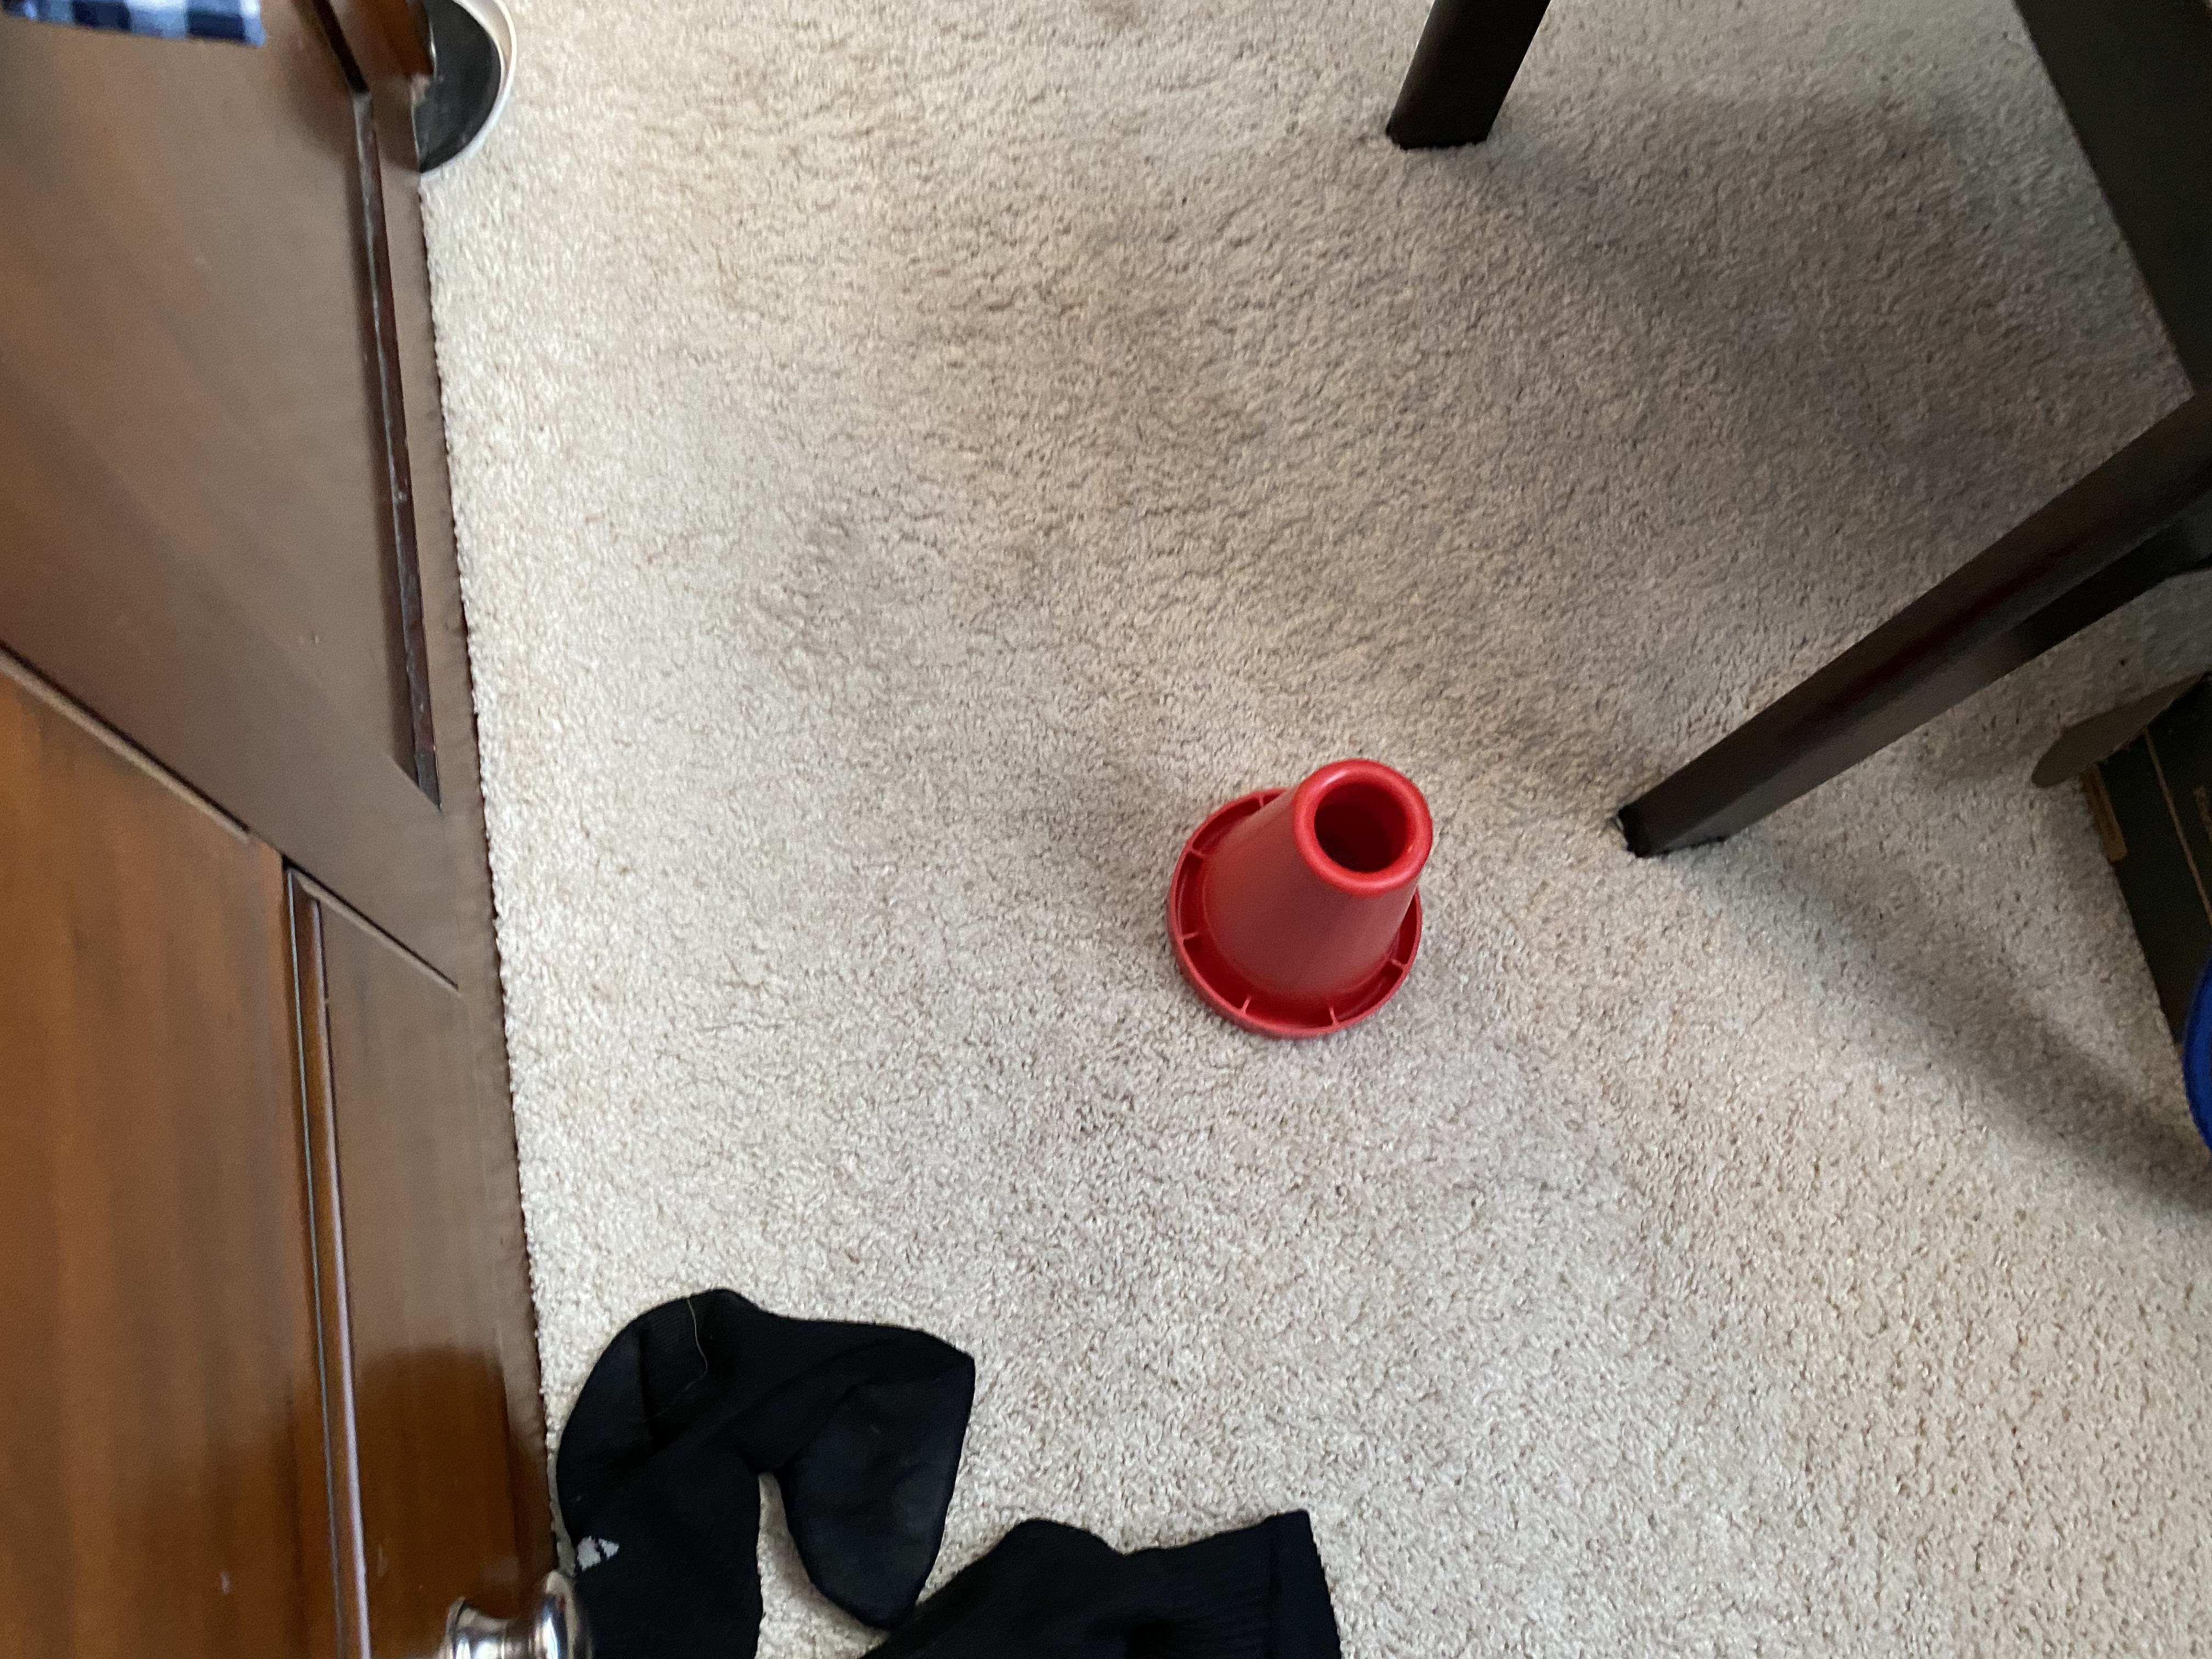redCone: (1158, 751, 1435, 1044)
